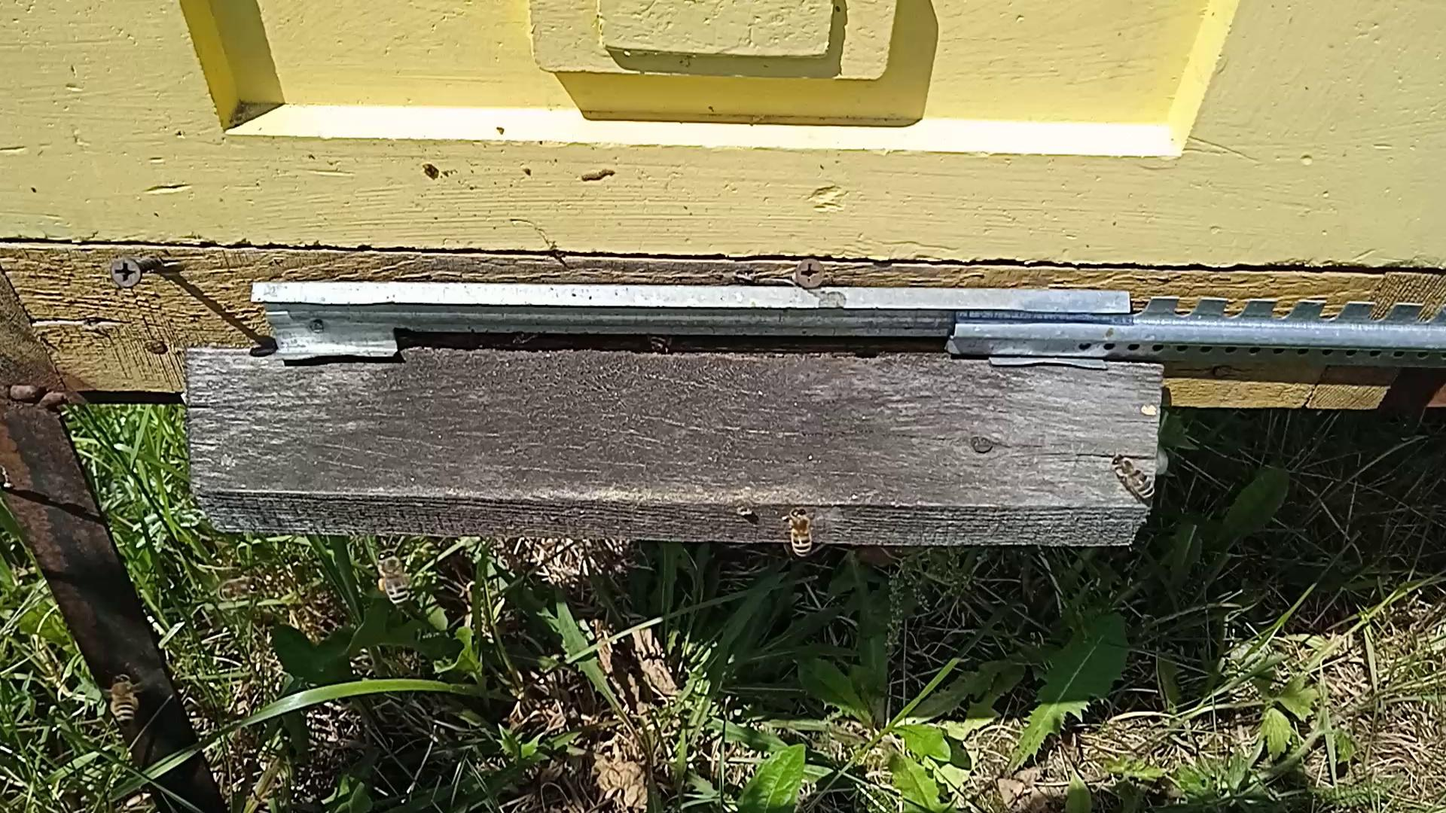worker-bee: (1109, 452, 1156, 501), (375, 549, 413, 608), (108, 672, 139, 724), (784, 506, 813, 559), (215, 577, 263, 604), (644, 333, 675, 353)
